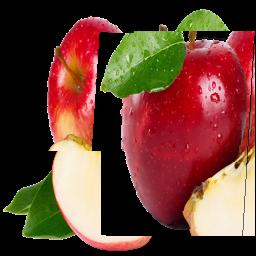Apple Fresh: (102, 32, 256, 237), (41, 10, 135, 152)
